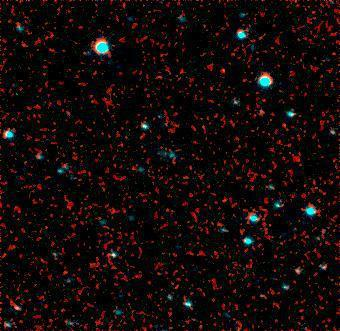star: (269, 109, 299, 139)
